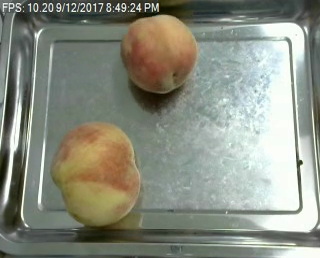Peach: (53, 121, 144, 227), (122, 14, 199, 93)
